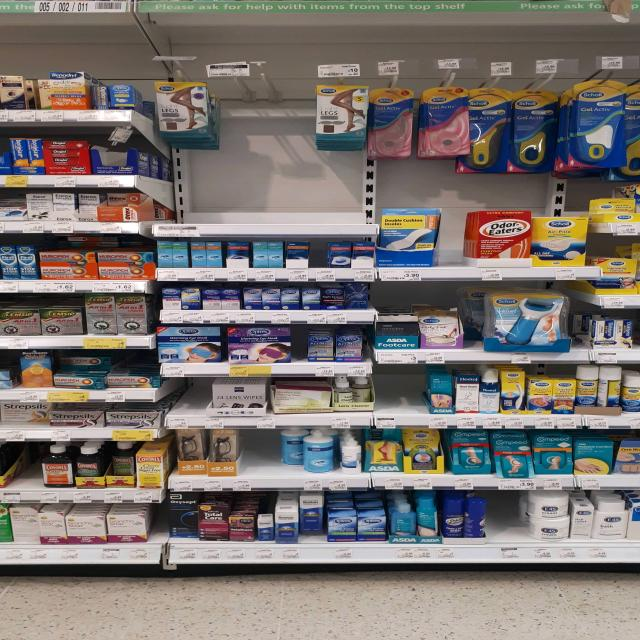unorganised: (467, 87, 555, 168), (271, 378, 378, 413), (152, 80, 214, 139), (169, 494, 197, 541), (1, 402, 53, 427), (298, 496, 326, 542), (90, 82, 134, 109), (108, 443, 135, 482), (282, 426, 305, 471), (464, 496, 487, 540), (598, 366, 621, 409), (57, 354, 107, 372), (345, 283, 370, 309), (321, 284, 344, 309), (35, 78, 51, 111)
